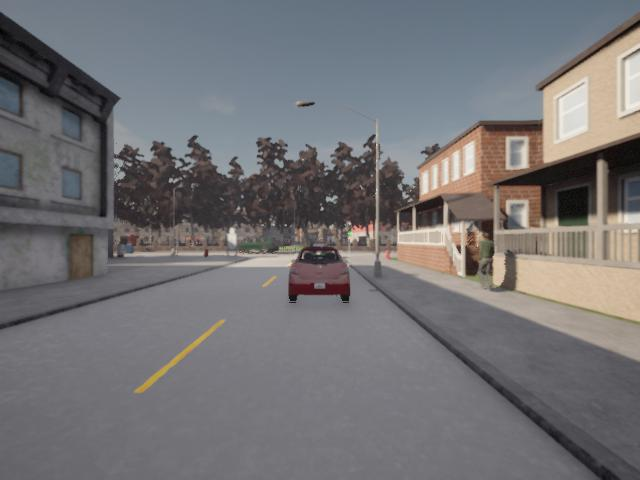9: (287, 247, 350, 303)
vehicle: (474, 230, 496, 292)
